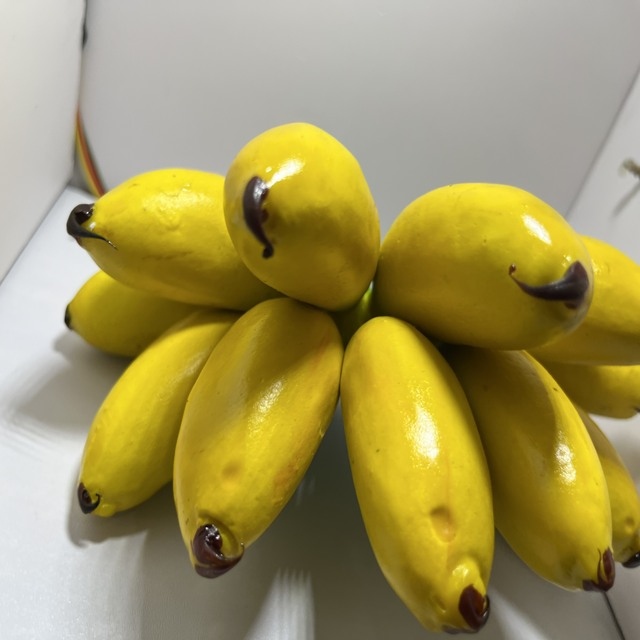Chuoi: (54, 120, 640, 640)
